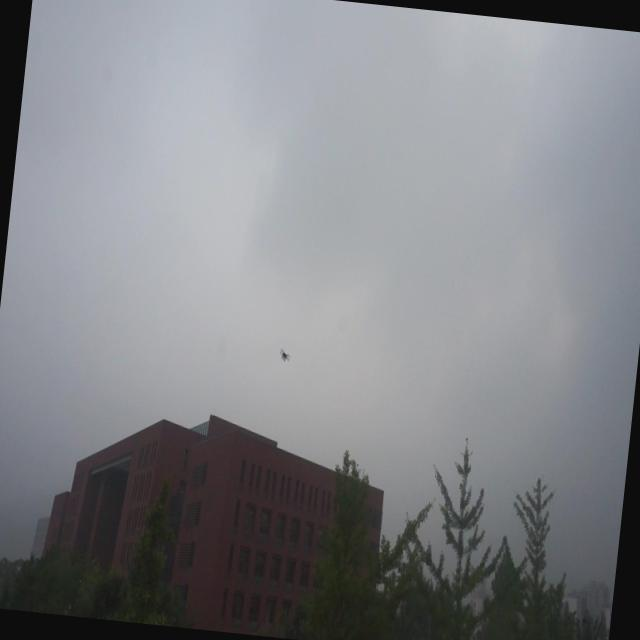drone: (275, 342, 293, 370)
